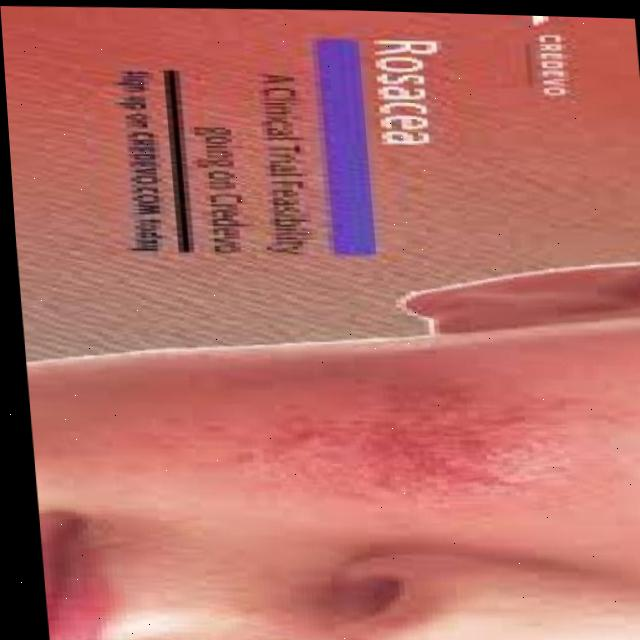Rosacea: (214, 368, 578, 519)
